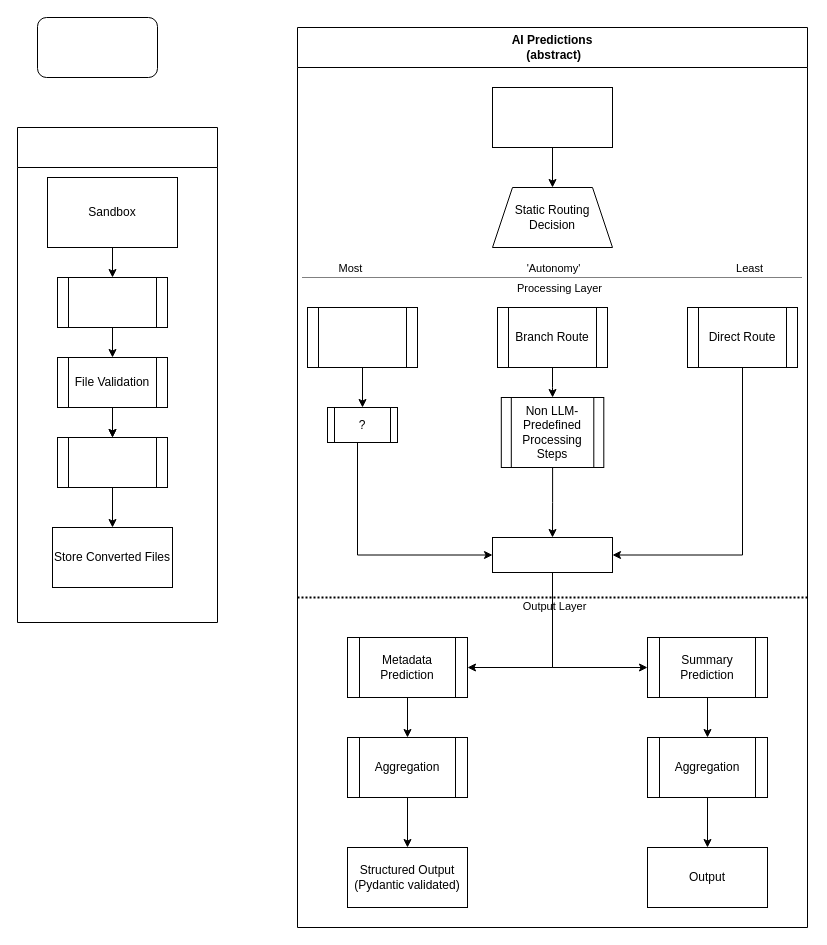
Some shapes in this 827 by 945 pixel diagram are drawn without their labels. The shapes that lost their labels are listed below. From the top down, each one's box as (x1, y1, x2, y2) in pixels, then its label:
(36, 16, 158, 78): Data Input
(492, 86, 612, 148): Input Files
(56, 276, 168, 328): Archive Extraction
(306, 306, 418, 368): Agentic Route
(16, 126, 218, 622): Data Processing
(56, 436, 168, 488): File Conversion
(492, 536, 612, 572): Chunking
